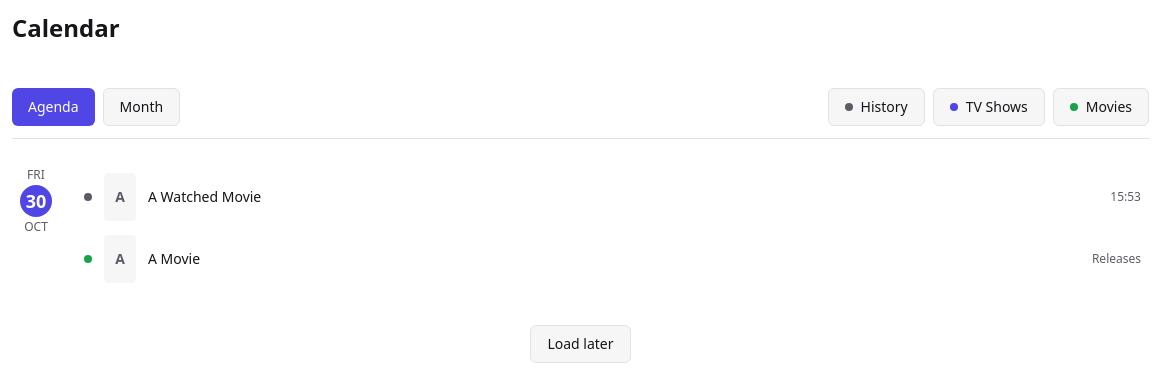
Test: CalendarPage › toggling the History filter off hides watch events but keeps others
Check: the text "A Watched Movie" is shown, box left=148, top=187, right=261, bottom=206
Check: the text "A Movie" is shown, box left=148, top=249, right=200, bottom=268
Click the button "History" at [876, 107], box left=828, top=88, right=925, bottom=126
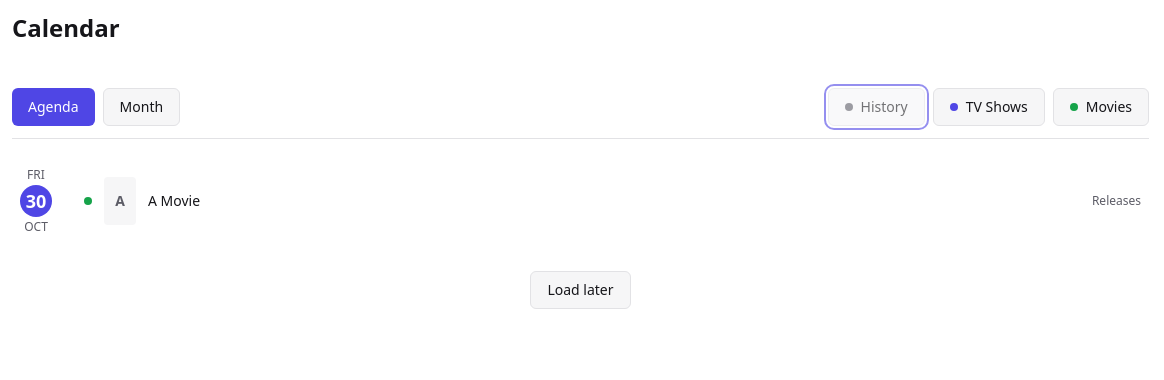
Check: the text "A Movie" is shown, box left=148, top=191, right=200, bottom=210
Check: the link "A Watched Movie" is gone
